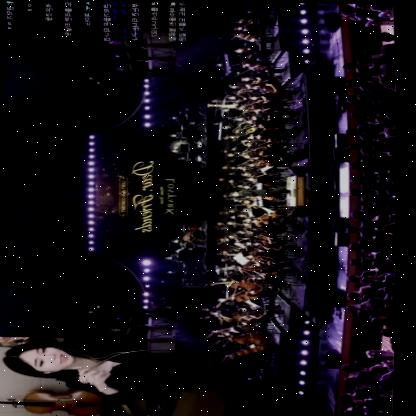streamer: (2, 335, 148, 406)
